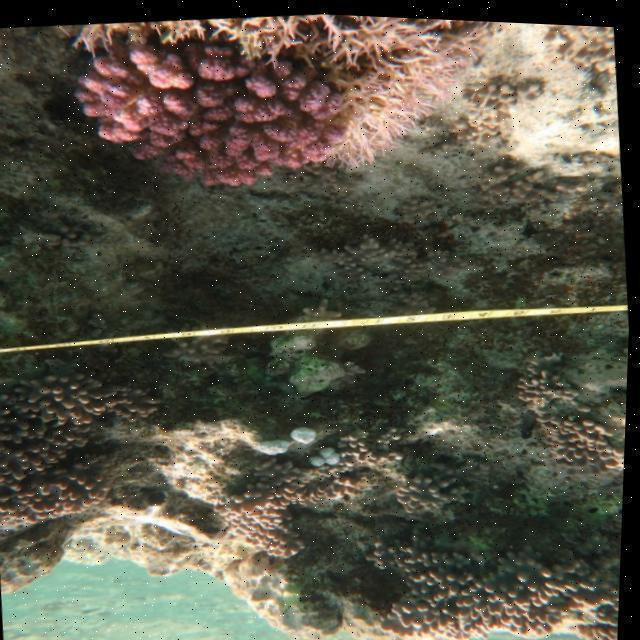Healthy Coral: (68, 20, 339, 205)
